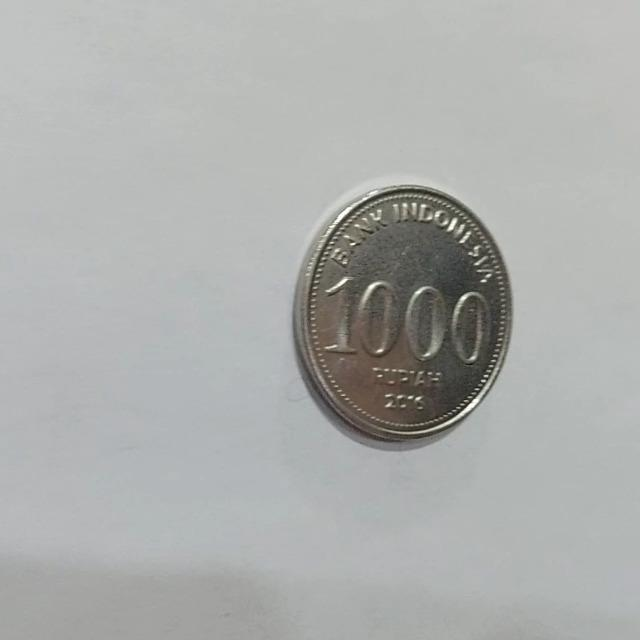Rp100: (290, 179, 514, 448)
